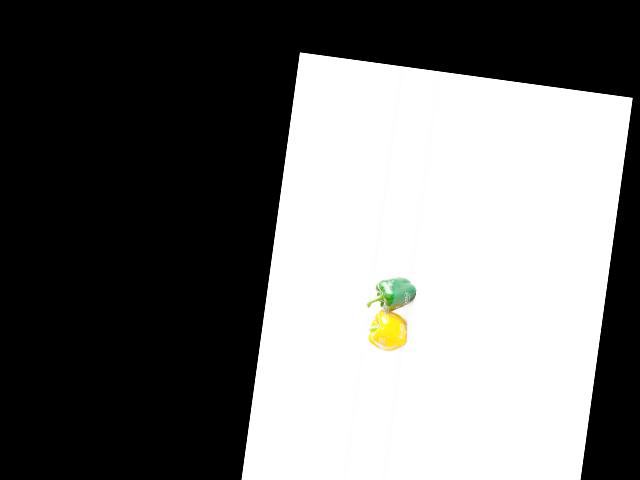bell_pepper: (370, 270, 424, 315)
